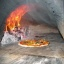pizza: (16, 38, 49, 49)
